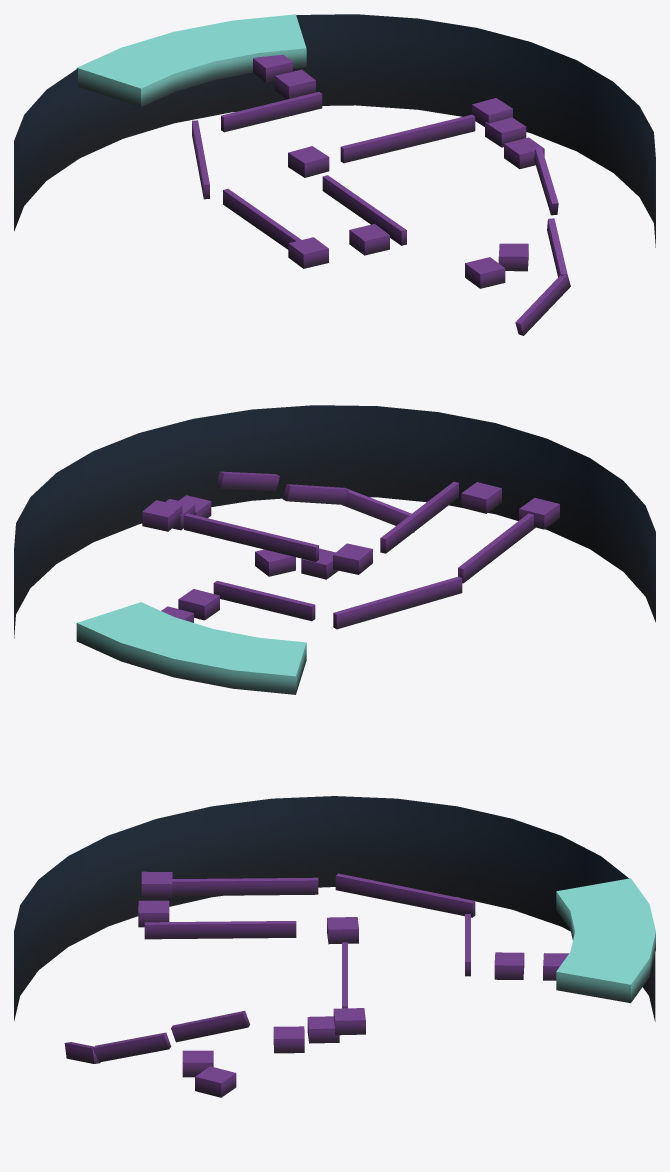
File: Chunk10.glb
3 renders of one model, top to bottom at view 1: azimuth 30°, elevation 25°; view 2: azimuth 150°, elevation 25°; view 3: azimuth 270°, elevation 25°, orthographic.
Parts seen in each view (by area): view 1: Chunk10; view 2: Chunk10; view 3: Chunk10.
Part boxes in pixels (x1,y1,x2,y2): Chunk10: (14,14,655,335); Chunk10: (14,405,655,694); Chunk10: (14,796,655,1097).
Size of what is drawn, in the model's own units: 69.14 by 11.98 by 69.22.
1 material, 1 textured.
